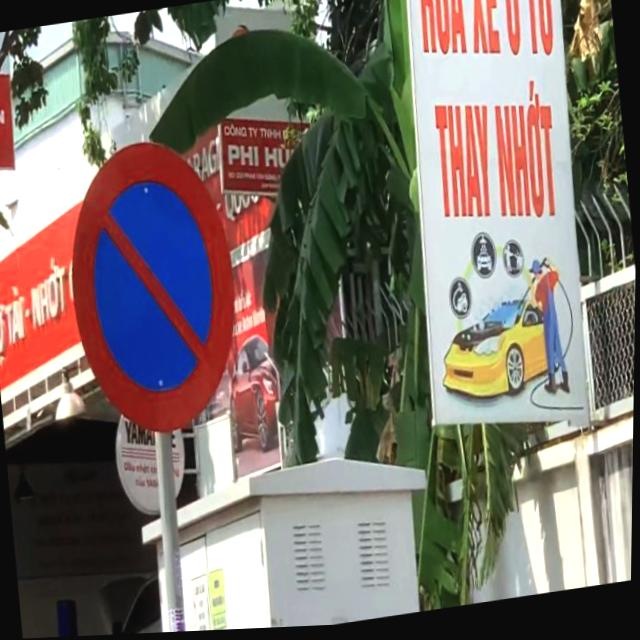Cam do xe: (48, 115, 259, 454)
